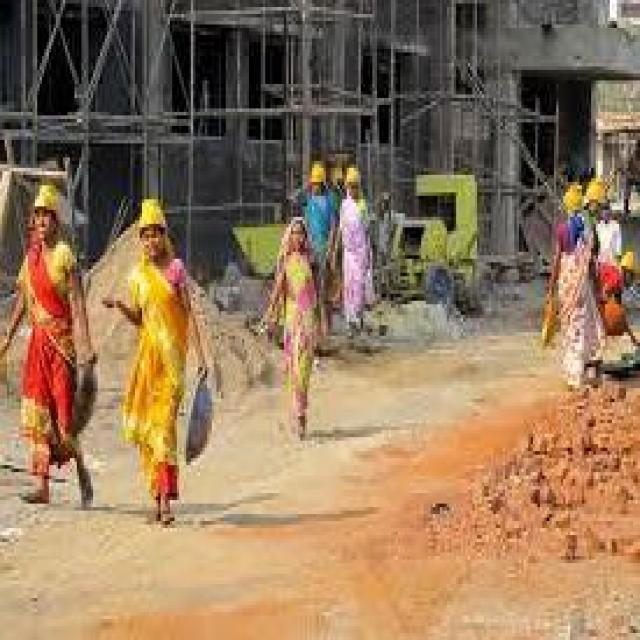Safety-Helmet: (23, 175, 70, 231), (132, 189, 174, 241), (305, 157, 330, 196), (342, 161, 365, 192)
